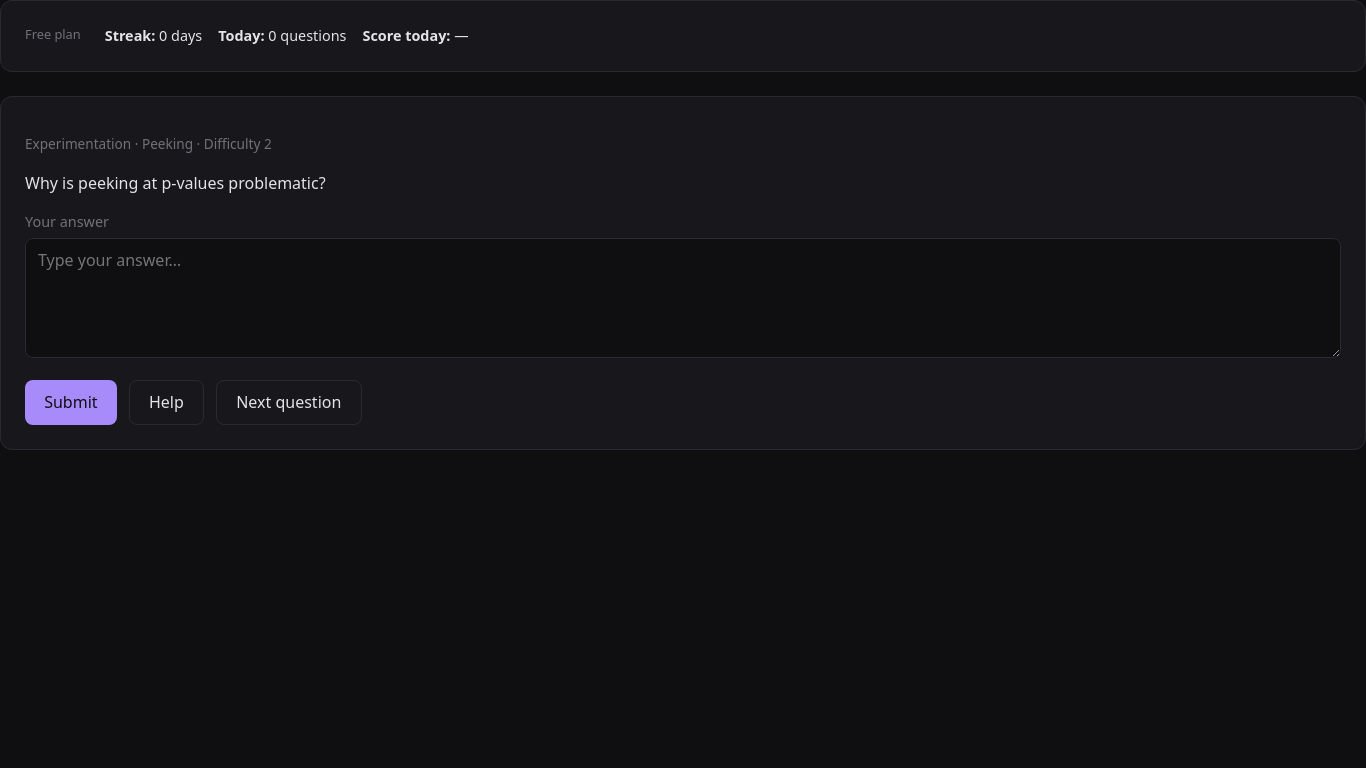
App page feedback › renders example answers as a level list (not a monospace pre block)
Expected: the text "Why is peeking at p-values problematic?" is shown, top-left (25, 172), bottom-right (326, 194)
Step 1. Type "x" into the text box labelled "Your answer" → [683, 298], box top-left (25, 238), bottom-right (1341, 358)
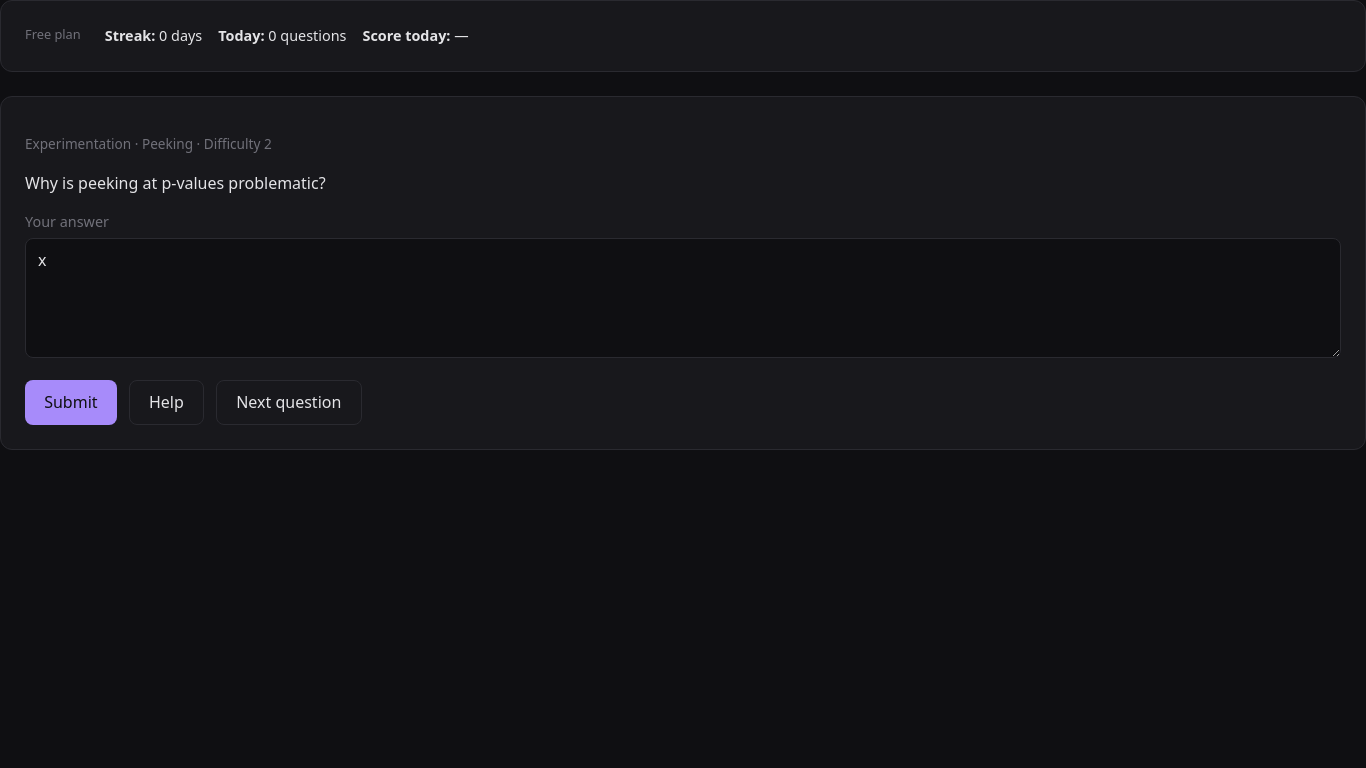
Step 2. Click the button "Submit" → [71, 402], box top-left (25, 380), bottom-right (117, 425)
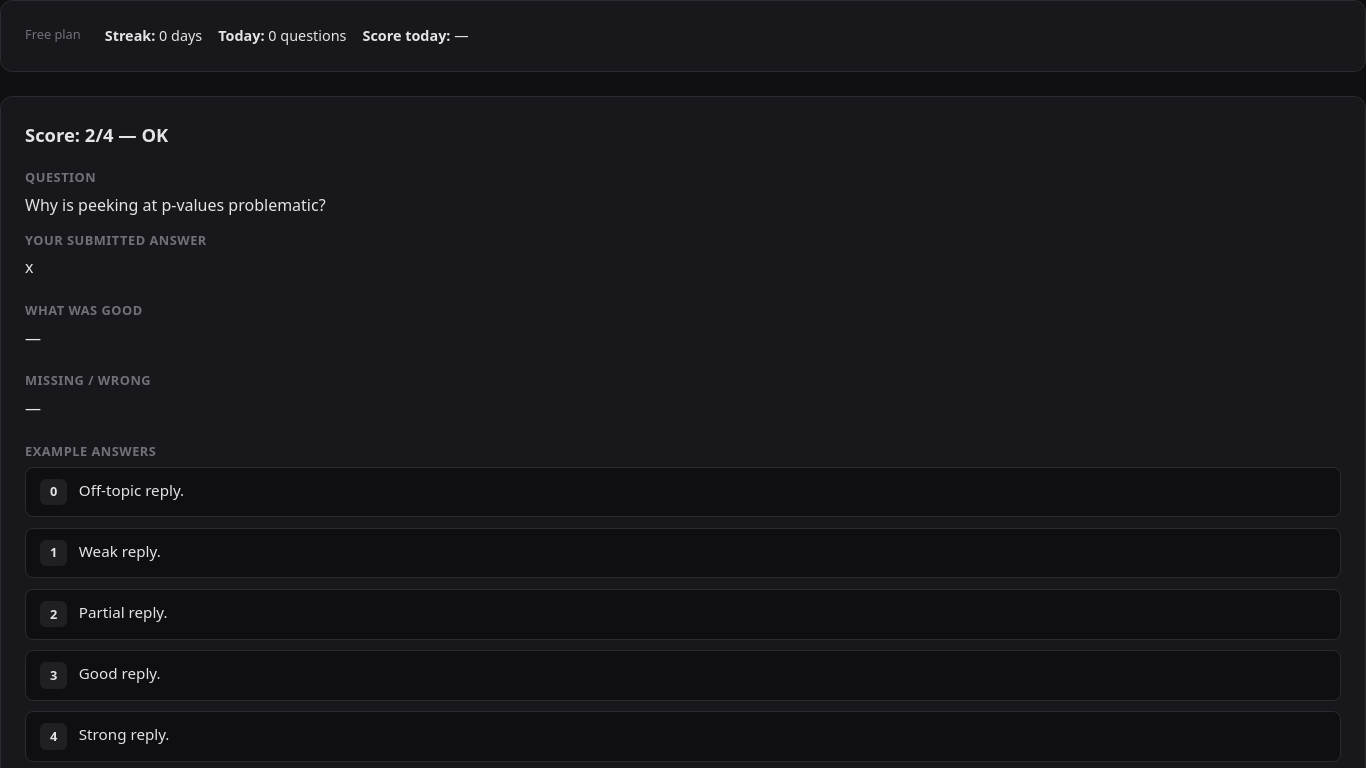
Expected: the list with class "feedback-example-list" is shown, top-left (25, 466), bottom-right (1341, 762)
Expected: the text "Strong reply." is shown, top-left (79, 724), bottom-right (170, 744)
